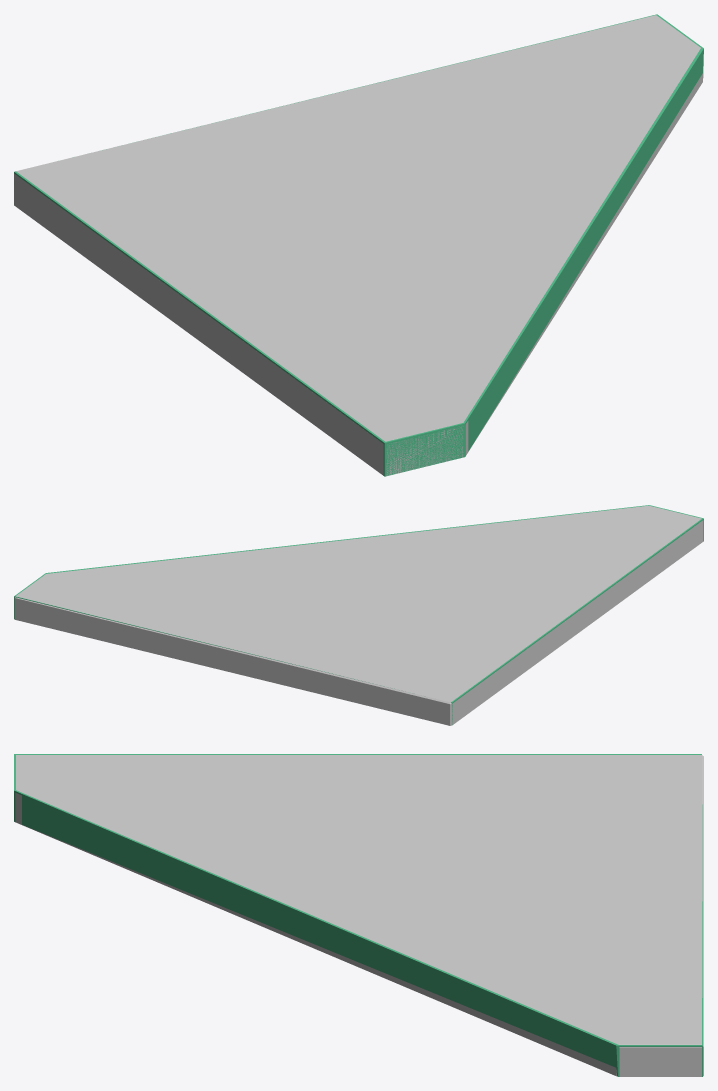
The model's file is gm_curb_diagonal_01.dae.
3 views of the same model, one above another, from view 1: azimuth 30°, elevation 25°; view 2: azimuth 150°, elevation 25°; view 3: azimuth 270°, elevation 25° (orthographic). The views are drawn at different scales.
Visible parts, largest first — view 1: ind_bld_c10, Colmesh-1; view 2: ind_bld_c10, Colmesh-1; view 3: ind_bld_c10, Colmesh-1.
Part boxes in pixels (left/top/right/bottom): ind_bld_c10: left=14, top=15, right=702, bottom=475; Colmesh-1: left=14, top=14, right=703, bottom=476; ind_bld_c10: left=14, top=505, right=703, bottom=725; Colmesh-1: left=14, top=505, right=703, bottom=724; ind_bld_c10: left=15, top=755, right=703, bottom=1076; Colmesh-1: left=14, top=754, right=702, bottom=1076.
Size of the model in its own units: 8 by 8 by 0.4.
